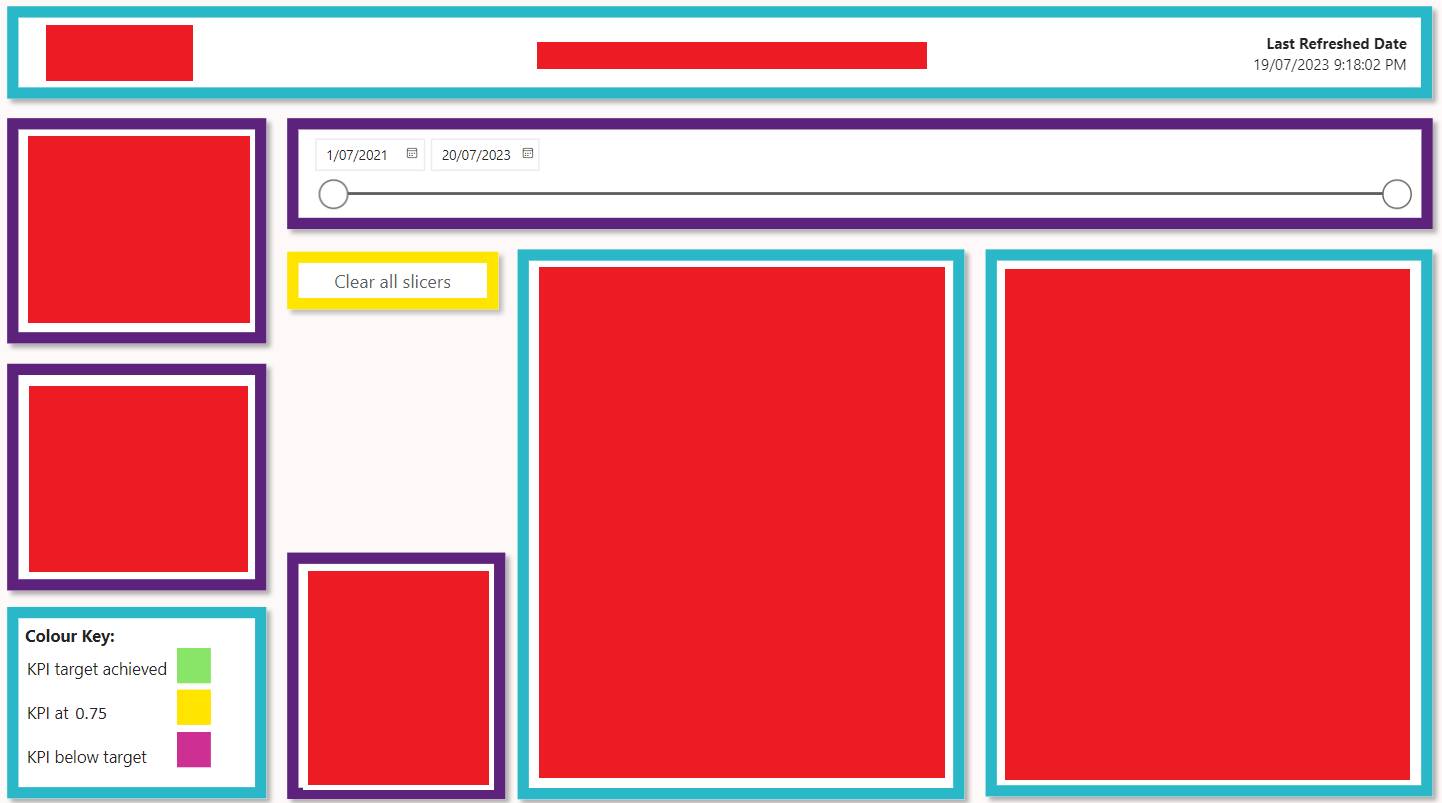

What the dashboard file says about the page in this screenshot:
{"tool":"powerbi","page":{"name":"Landing page","canvas":[1280,720],"ordinal":0},"visuals":[{"type":"shape","box":[0,0,392,160],"z":0,"group":"g7"},{"type":"shape","box":[392,0,312,160],"z":0,"group":"g3"},{"type":"shape","box":[704.2,0,576,160],"z":0,"group":"g5"},{"type":"shape","box":[0,160,704,336],"z":0,"group":"g2"},{"type":"group","id":"g1","title":"hr table","box":[704,160,576,336],"z":0},{"type":"shape","box":[704,160,576,336],"z":0,"group":"g1"},{"type":"shape","box":[392,496,312,224],"z":0,"group":"g6"},{"type":"shape","box":[704,496,576,224],"z":0,"group":"g4"},{"type":"textbox","box":[24,24,352,112],"z":1000,"group":"g7"},{"type":"textbox","title":"weeks between","box":[416.6,24,262.7,120],"z":1000,"group":"g3"},{"type":"group","id":"g2","title":"ribbon chart","box":[0,160,704,336],"z":1000},{"type":"pivotTable","title":"Time spent on:","fields":{"Rows":["Pivotted.Week Start - Sort","Pivotted.Activity Hierarchy.Parent Activity","Pivotted.Activity Hierarchy.Child 1 Activity","Pivotted.Activity Hierarchy.Child 2 Activity"],"Columns":["Pivotted.Day"],"Values":["Pivotted.TimeSpent"]},"box":[723.6,184.2,537.6,287.8],"z":1000,"group":"g1"},{"type":"ribbonChart","title":"How time was spent","fields":{"Y":["Pivotted.TimeSpent"],"Category":["Pivotted.Week Start Hierarchy.Week Start - Sort"],"Series":["Pivotted.Activity Hierarchy.Parent Activity"]},"box":[24.2,186.2,653.2,284.6],"z":1000,"group":"g2"},{"type":"pivotTable","title":"Clock in / out times","fields":{"Values":["Min(Pivotted.Time)","Max(Pivotted.TimeEnd)"],"Rows":["Pivotted.Week Start - Sort"],"Columns":["Pivotted.Day"]},"box":[727.5,520.2,532.4,175.9],"z":1000,"group":"g4"},{"type":"card","title":"Time counter","fields":{"Values":["Pivotted.TimeSpent"]},"box":[424,560,248,96],"z":1000,"group":"g6"},{"type":"group","id":"g3","title":"about range","box":[392,0,312,160],"z":2000},{"type":"slicer","title":"Week starting","fields":{"Values":["Pivotted.Week Start.Variation.Date Hierarchy.Year","Pivotted.Week Start.Variation.Date Hierarchy.Month","Pivotted.Week Start - Sort"]},"box":[728.2,24,272,56],"z":2000,"group":"g5"},{"type":"slicer","title":"Count only Work","fields":{"Values":["Pivotted.Work"]},"box":[1110.6,23.3,161.5,56.4],"z":2500,"group":"g5"},{"type":"slicer","title":"Check weekends","fields":{"Values":["Weekday sort.Weekday"]},"box":[984.1,23.3,140.1,56.4],"z":3000,"group":"g5"},{"type":"group","id":"g4","title":"clock in / out","box":[704,496,576,224],"z":3000},{"type":"group","id":"g5","title":"selectors","box":[704.2,0,576,160],"z":4000},{"type":"slicer","title":"Activity selector","fields":{"Values":["Pivotted.Activity Hierarchy.Parent Activity","Pivotted.Activity Hierarchy.Child 1 Activity","Pivotted.Activity Hierarchy.Child 2 Activity"]},"box":[728.2,80,272,64],"z":4000,"group":"g5"},{"type":"group","id":"g6","title":"time card","box":[392,496,312,224],"z":5000},{"type":"group","id":"g7","title":"about","box":[0,0,392,160.1],"z":6000},{"type":"textbox","box":[11.8,623.3,331.6,90.3],"z":7000},{"type":"actionButton","title":"Clear all","box":[1004.8,84.5,251.5,52.1],"z":7001,"group":"g5"}]}

Visuals, with their boxes in screenshot pixels (x1, y1, x2, y2), scaled from the page's 1280x720 canvas onto the 1442x803 screenshot:
shape: bbox=(0, 0, 442, 178)
shape: bbox=(442, 0, 793, 178)
shape: bbox=(793, 0, 1441, 178)
shape: bbox=(0, 178, 793, 553)
"hr table" group: bbox=(793, 178, 1441, 553)
shape: bbox=(793, 178, 1441, 553)
shape: bbox=(442, 553, 793, 802)
shape: bbox=(793, 553, 1441, 802)
textbox: bbox=(27, 27, 424, 152)
"weeks between" textbox: bbox=(469, 27, 765, 161)
"ribbon chart" group: bbox=(0, 178, 793, 553)
"Time spent on:" pivotTable: bbox=(815, 205, 1421, 526)
"How time was spent" ribbonChart: bbox=(27, 208, 763, 525)
"Clock in / out times" pivotTable: bbox=(820, 580, 1419, 776)
"Time counter" card: bbox=(478, 625, 757, 732)
"about range" group: bbox=(442, 0, 793, 178)
"Week starting" slicer: bbox=(820, 27, 1127, 89)
"Count only Work" slicer: bbox=(1251, 26, 1433, 89)
"Check weekends" slicer: bbox=(1109, 26, 1266, 89)
"clock in / out" group: bbox=(793, 553, 1441, 802)
"selectors" group: bbox=(793, 0, 1441, 178)
"Activity selector" slicer: bbox=(820, 89, 1127, 161)
"time card" group: bbox=(442, 553, 793, 802)
"about" group: bbox=(0, 0, 442, 179)
textbox: bbox=(13, 695, 387, 796)
"Clear all" actionButton: bbox=(1132, 94, 1415, 152)
